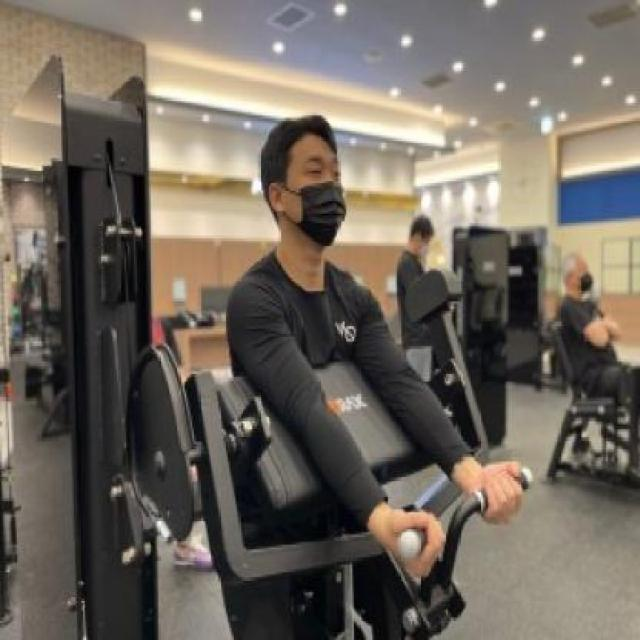arm curl machine: (9, 341, 535, 640)
